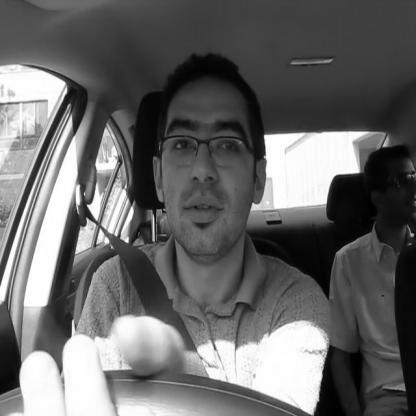seatbelt: (64, 50, 274, 416)
